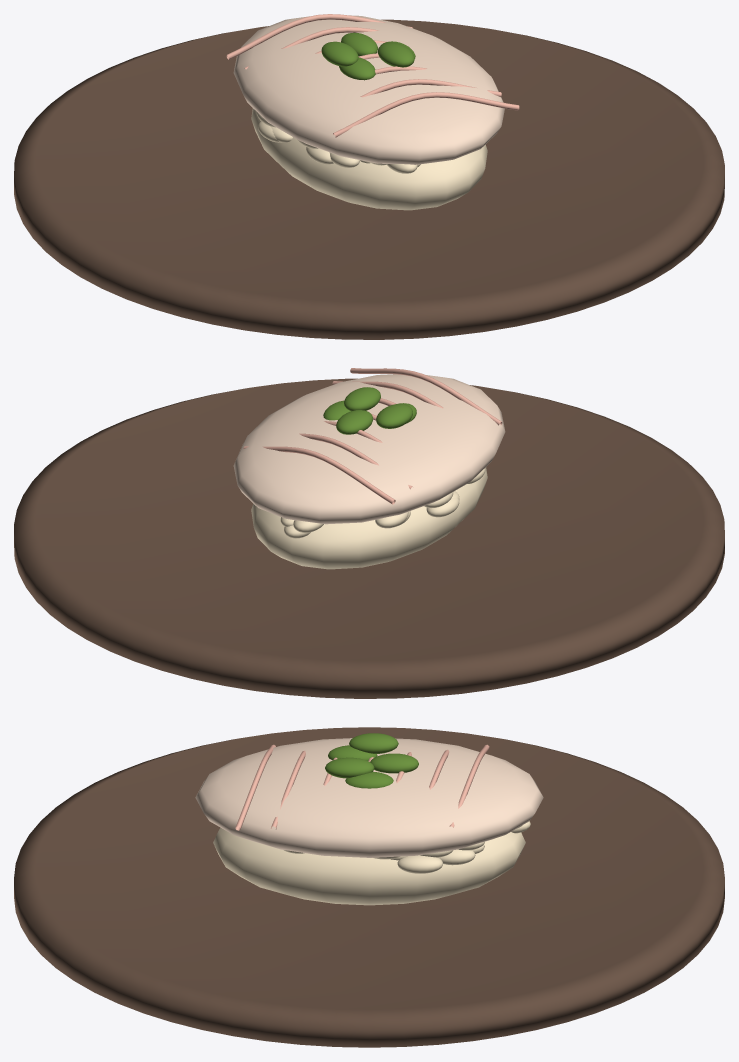
The model's file is 17-white-sushi.glb.
3 renders of one model, top to bottom at view 1: azimuth 30°, elevation 25°; view 2: azimuth 150°, elevation 25°; view 3: azimuth 270°, elevation 25°, orthographic.
Parts seen in each view (by area): view 1: 도미 소금 초밥; view 2: 도미 소금 초밥; view 3: 도미 소금 초밥.
Boxes of the visible parts, <box> form: 도미 소금 초밥: <box>14,14,724,339</box>; 도미 소금 초밥: <box>14,368,724,698</box>; 도미 소금 초밥: <box>14,727,724,1047</box>.
Size of the model in its own units: 2 by 0.521 by 2.
